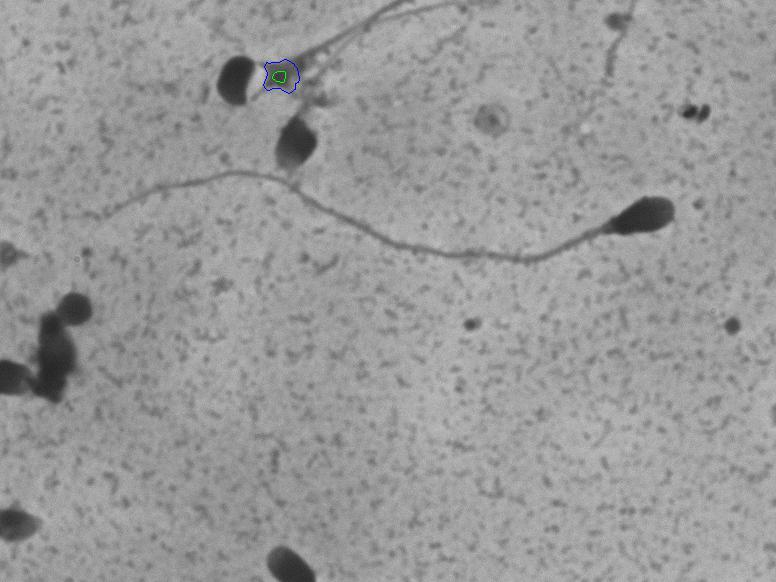Abnormal: (80, 165, 687, 327)
